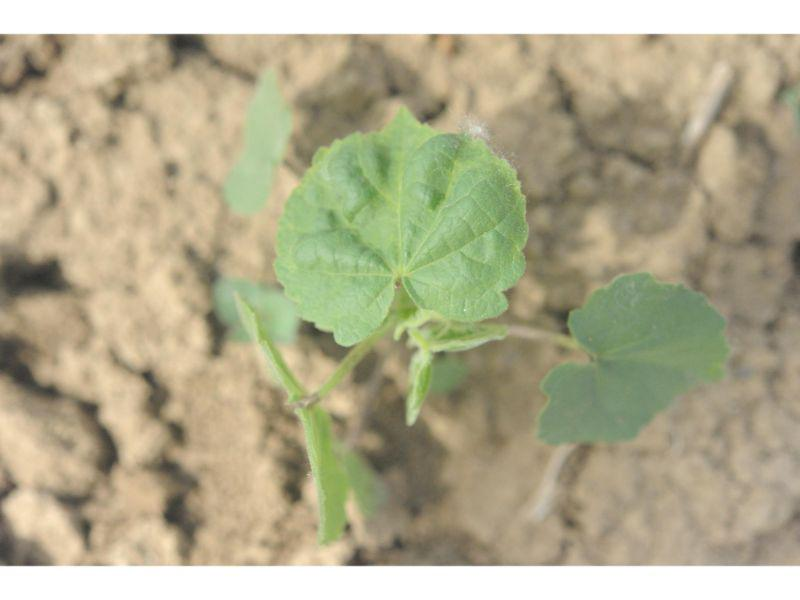velvet: (225, 68, 727, 539)
